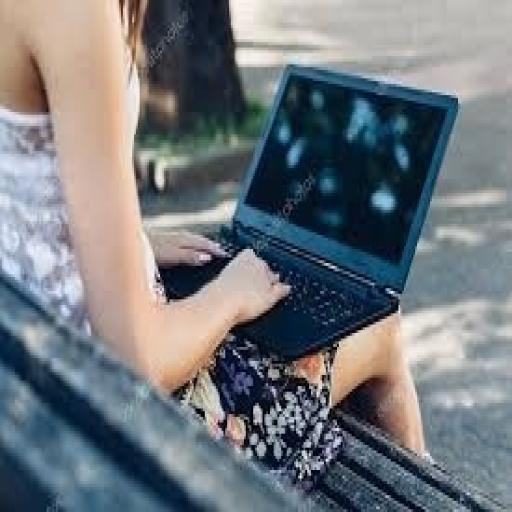using_laptop: (145, 56, 460, 361)
